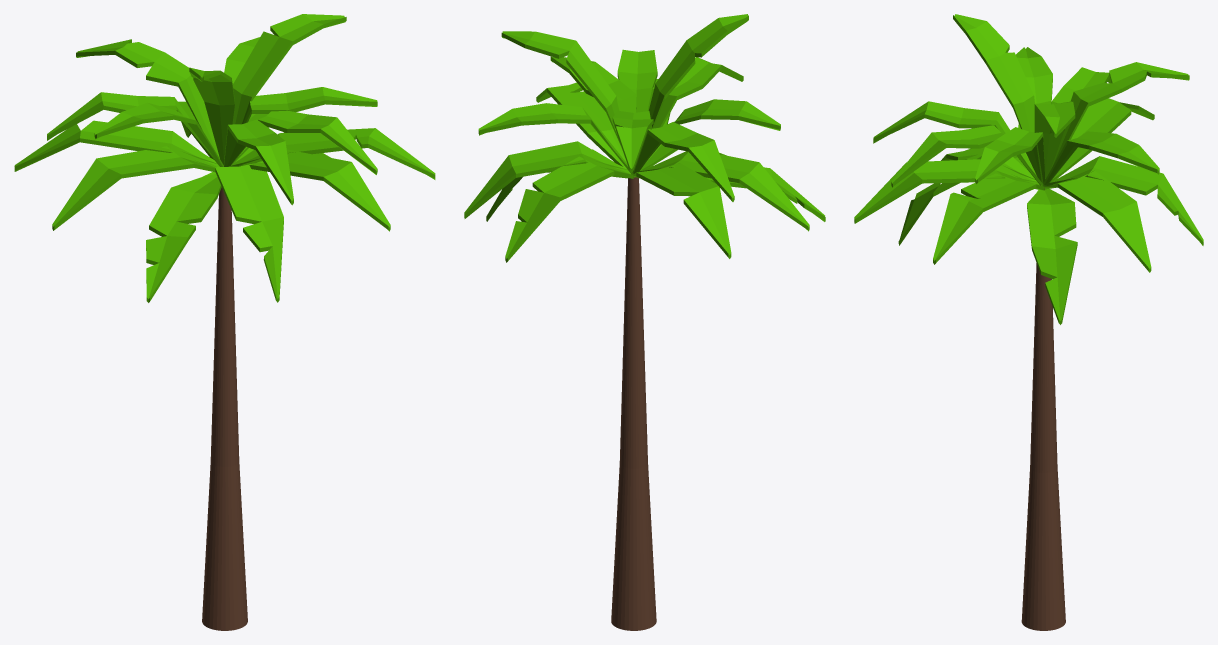
Rendered from coconuttree2 (1).fbx.
The picture shows the model from 3 angles, left to right: view 1: azimuth 30°, elevation 25°; view 2: azimuth 150°, elevation 25°; view 3: azimuth 270°, elevation 25°; orthographic projection. The views are drawn at different scales.
Visible parts, largest first — view 1: coconuttree; view 2: coconuttree; view 3: coconuttree.
Boxes of the visible parts, x1,y1,x2,y2 form: coconuttree: [14, 14, 435, 630]; coconuttree: [464, 14, 825, 630]; coconuttree: [854, 14, 1203, 630].
Size of the model in its own units: 129 by 223 by 123.
